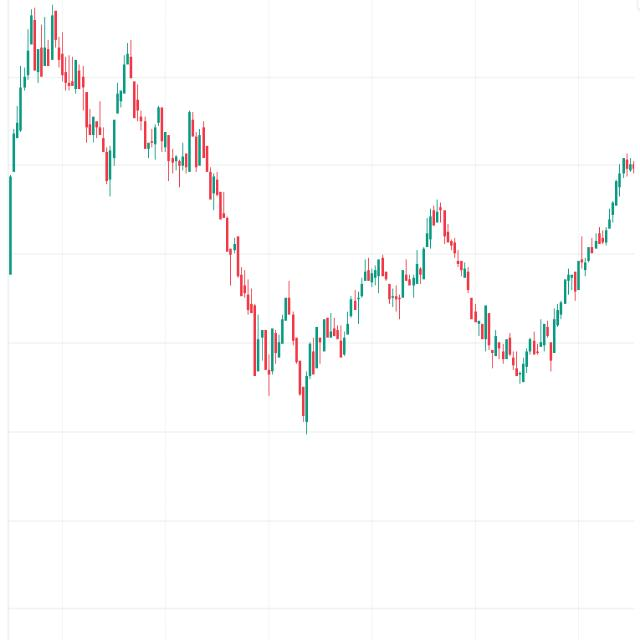Rising-Wedge: (277, 186, 467, 483)
